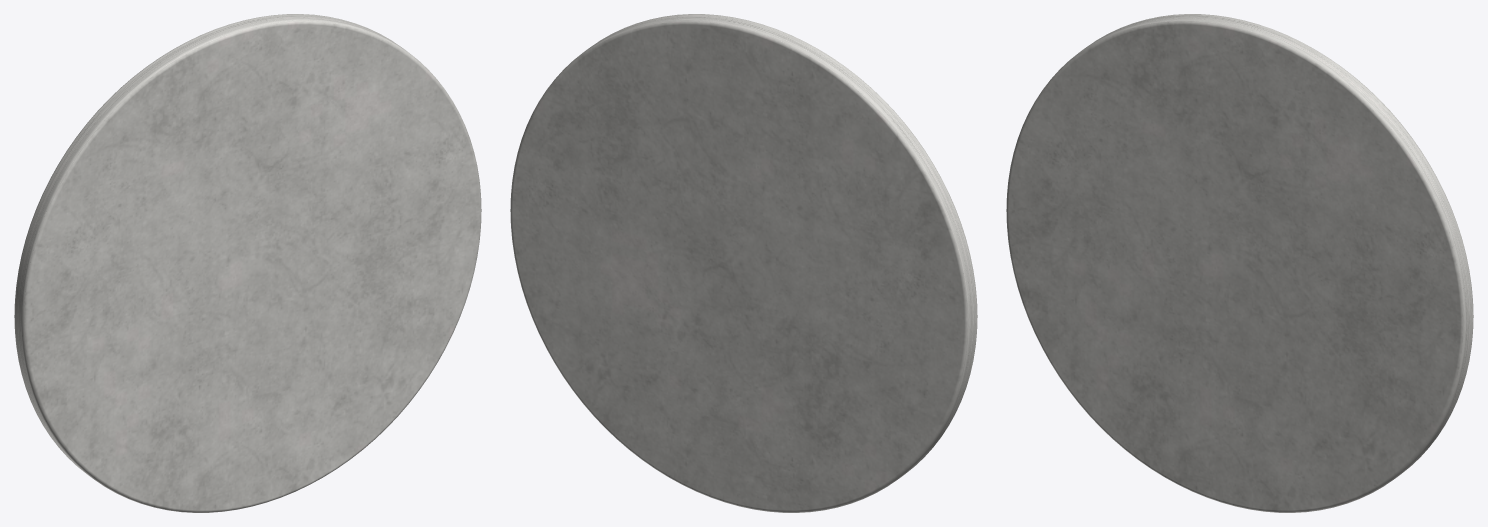
File: ancient_greek_coin.glb
The picture shows the model from 3 angles, left to right: view 1: azimuth 30°, elevation 25°; view 2: azimuth 150°, elevation 25°; view 3: azimuth 330°, elevation 25°; orthographic projection.
Parts seen in each view (by area): view 1: pCylinder1; view 2: pCylinder1; view 3: pCylinder1.
Part boxes in pixels (bbox=[...]): pCylinder1: bbox=[14, 14, 481, 512]; pCylinder1: bbox=[510, 14, 977, 512]; pCylinder1: bbox=[1006, 14, 1473, 512].
Size of the model in its own units: 2 by 2 by 0.0822.
1 material, 1 textured.
